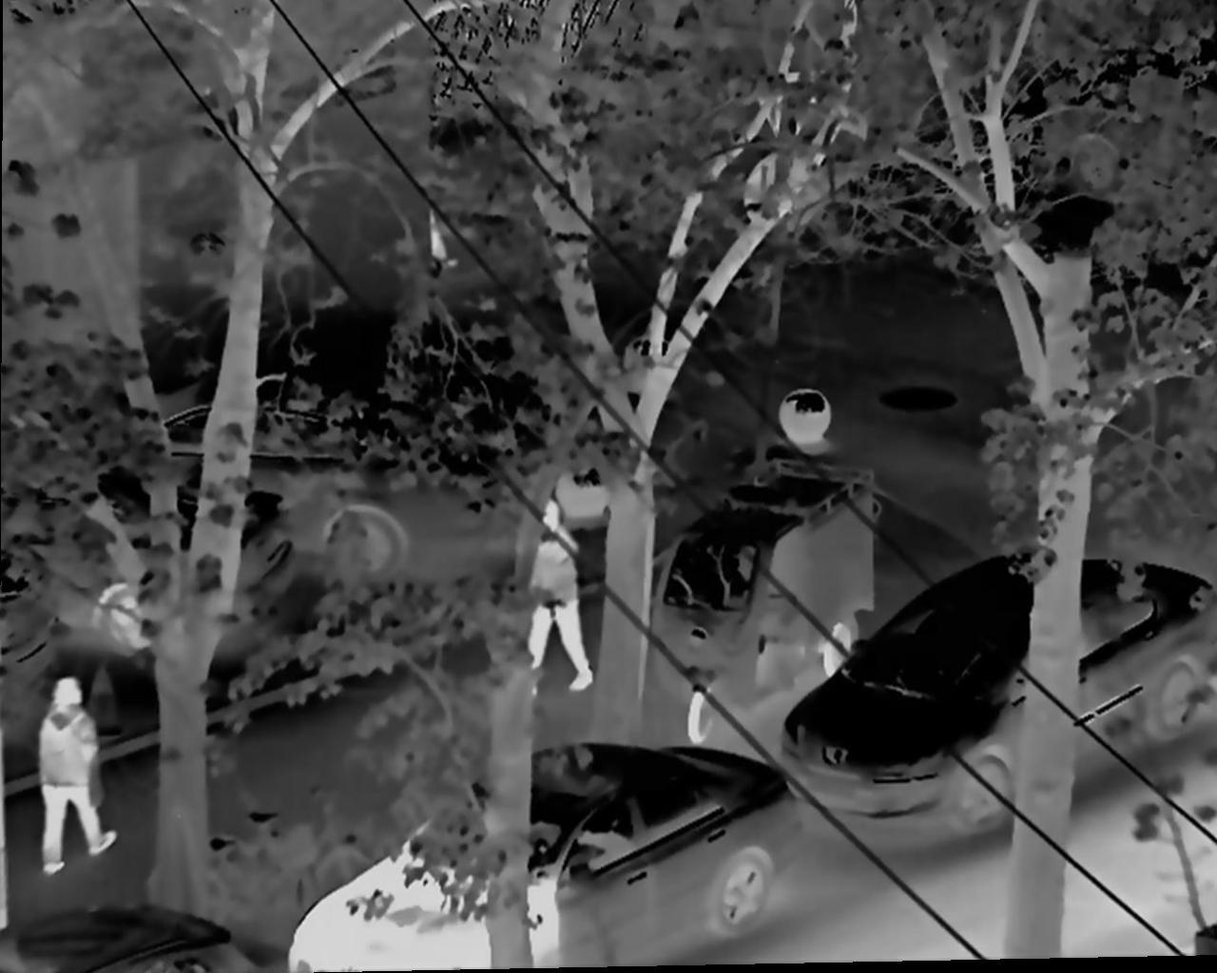person: (27, 674, 120, 874), (511, 485, 601, 688)
